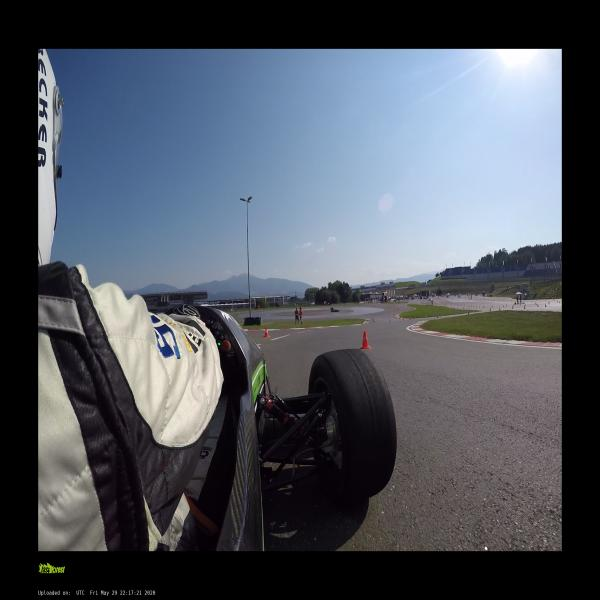orange_cone: (359, 330, 371, 349), (263, 326, 269, 337)
